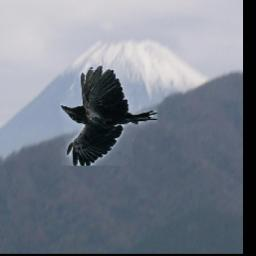Crow: (60, 66, 157, 167)
